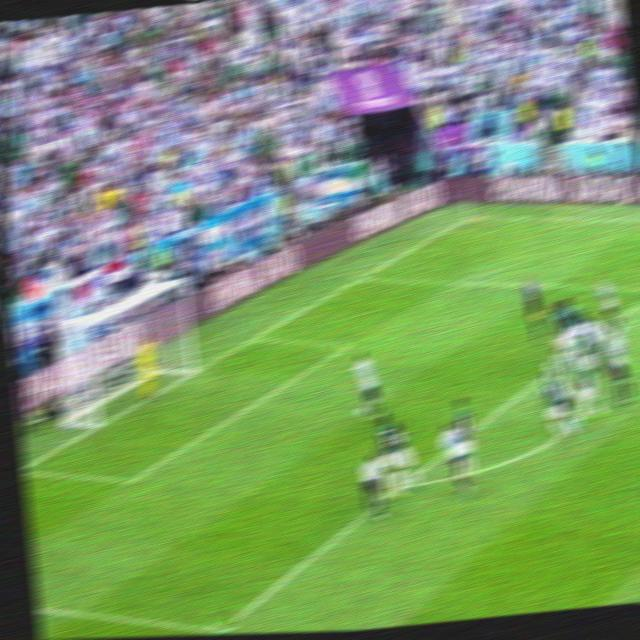bigarea_bottom_inner: (204, 609, 237, 634)
bigarea_top_outter: (351, 269, 371, 284)
corner: (457, 209, 482, 223)
smallarea_bottom_inner: (117, 461, 148, 494)
smallarea_bottom_outter: (20, 454, 35, 481)
smallarea_top_inner: (338, 333, 361, 354)
smallarea_top_outter: (243, 326, 266, 348)
top_arc_area_intersection: (544, 358, 563, 377)
